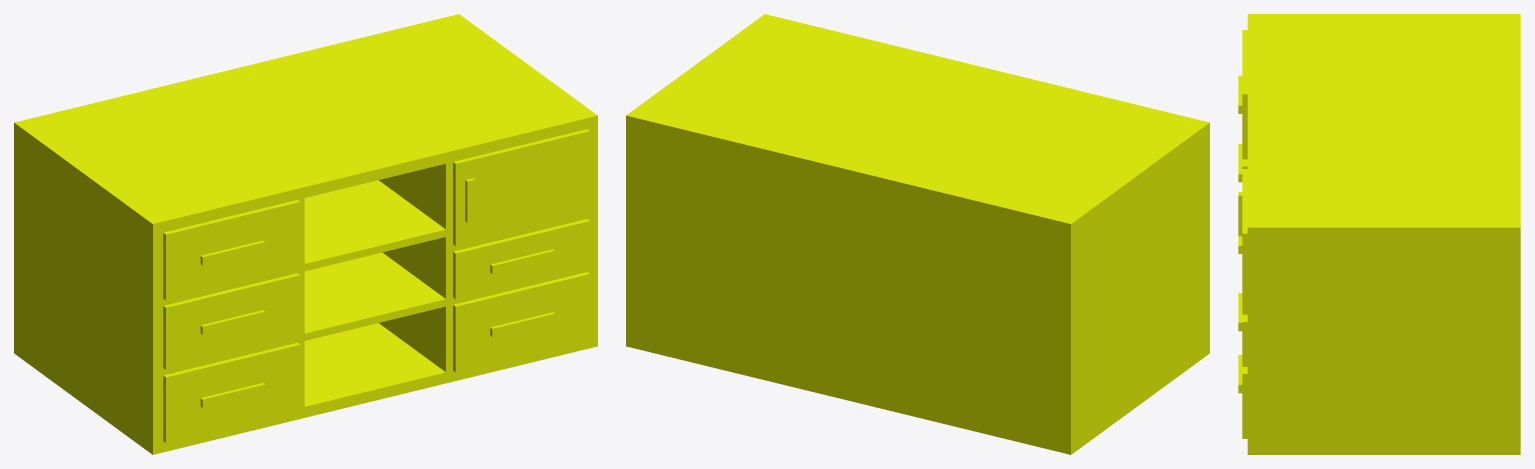
Rendered from Cupboard1.FBX.
3 views of the same model, side by side, from view 1: azimuth 30°, elevation 25°; view 2: azimuth 150°, elevation 25°; view 3: azimuth 270°, elevation 25° (orthographic).
Parts seen in each view (by area): view 1: Box021; view 2: Box021; view 3: Box021.
Part boxes in pixels (left/top/right/bottom): Box021: left=14, top=14, right=597, bottom=454; Box021: left=626, top=14, right=1209, bottom=454; Box021: left=1238, top=14, right=1520, bottom=454.
Bounding box in the file's own units: 3.06 × 1.62 × 1.71.
